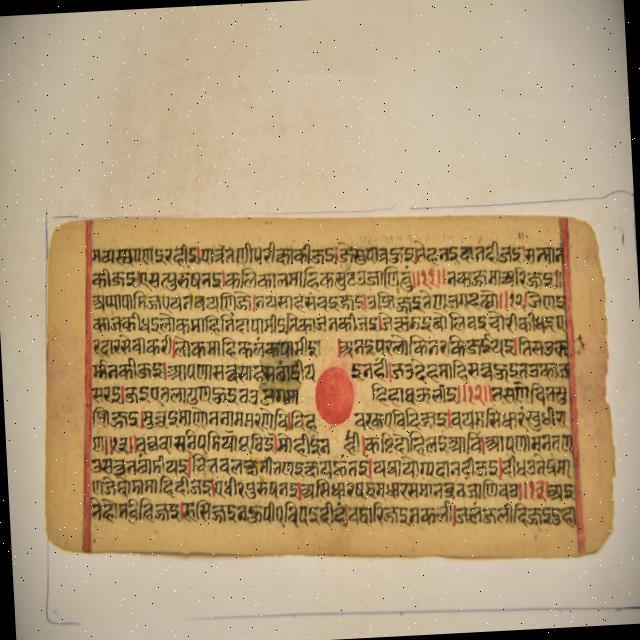text_paragraph: (43, 218, 613, 554)
